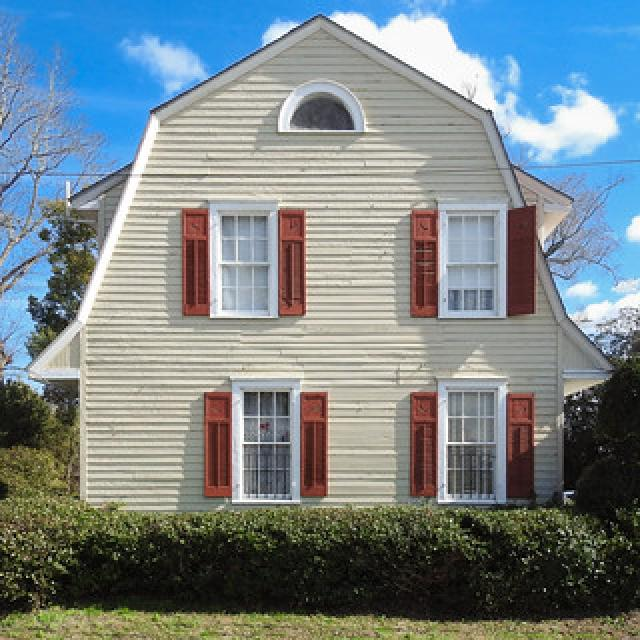building: (22, 13, 614, 509)
